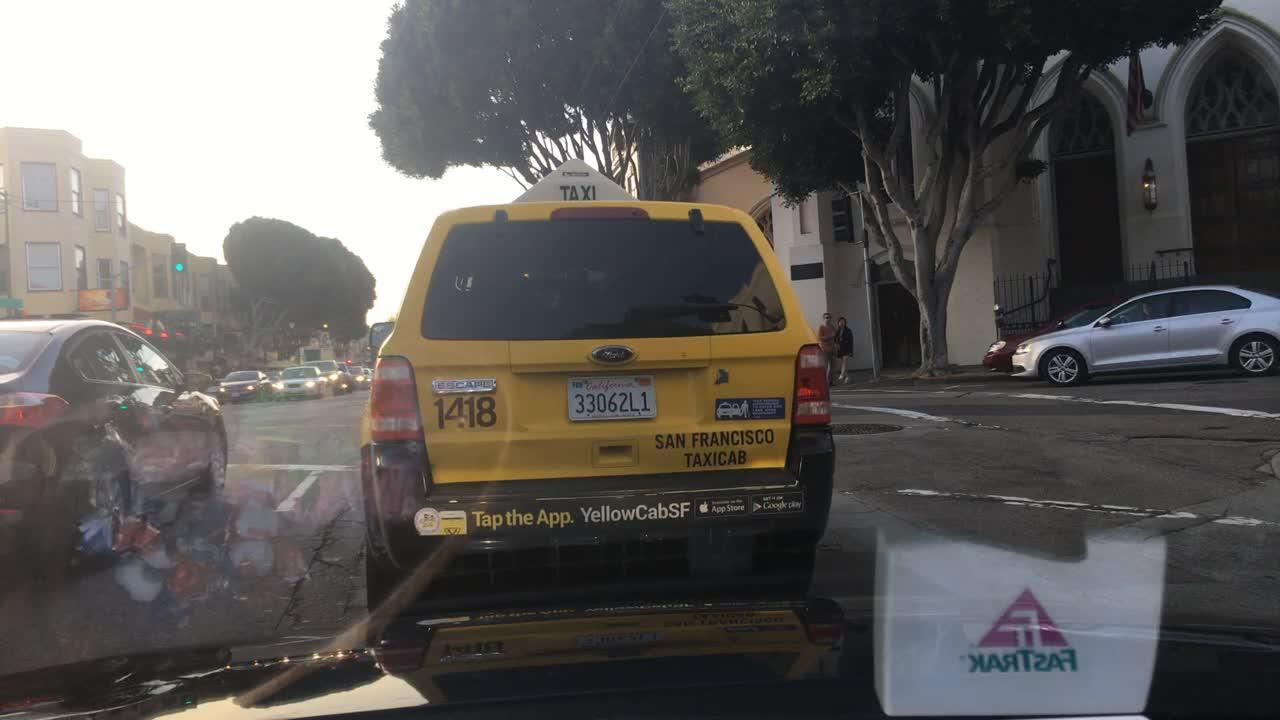ford: (582, 343, 642, 368)
